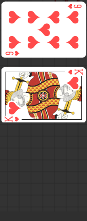KH: (67, 68, 85, 76)
